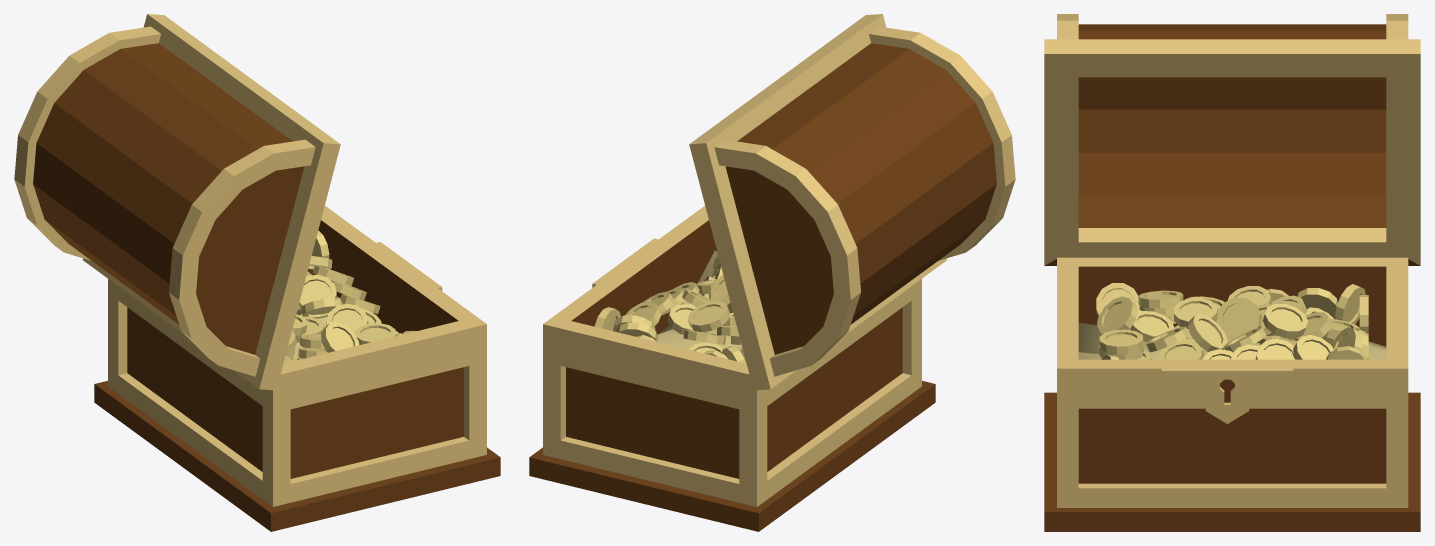
The model's file is chest.glb.
3 renders of one model, left to right at view 1: azimuth 30°, elevation 25°; view 2: azimuth 150°, elevation 25°; view 3: azimuth 270°, elevation 25°, orthographic. The views are drawn at different scales.
Parts seen in each view (by area): view 1: node0_primitive0_primitive0, node0_primitive0_primitive1, node0_primitive0_primitive2; view 2: node0_primitive0_primitive0, node0_primitive0_primitive1, node0_primitive0_primitive2, node0_primitive0_primitive3; view 3: node0_primitive0_primitive0, node0_primitive0_primitive1, node0_primitive0_primitive2, node0_primitive0_primitive3.
Boxes of the visible parts, left/top/right/bottom form: node0_primitive0_primitive0: left=33, top=43, right=500, bottom=531; node0_primitive0_primitive1: left=14, top=14, right=486, bottom=506; node0_primitive0_primitive2: left=283, top=230, right=416, bottom=363; node0_primitive0_primitive0: left=529, top=43, right=996, bottom=531; node0_primitive0_primitive1: left=543, top=14, right=1015, bottom=506; node0_primitive0_primitive2: left=594, top=253, right=746, bottom=363; node0_primitive0_primitive3: left=657, top=250, right=741, bottom=349; node0_primitive0_primitive0: left=1044, top=24, right=1420, bottom=531; node0_primitive0_primitive1: left=1044, top=14, right=1420, bottom=507; node0_primitive0_primitive2: left=1096, top=283, right=1368, bottom=359; node0_primitive0_primitive3: left=1078, top=322, right=1386, bottom=359.
Size of the model in its own units: 0.8842 by 1.01 by 0.8574.
